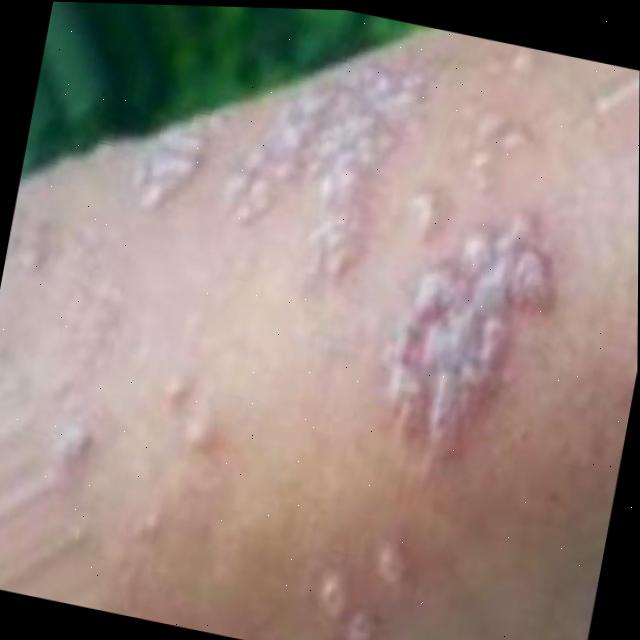Shingles: (107, 32, 593, 456)
